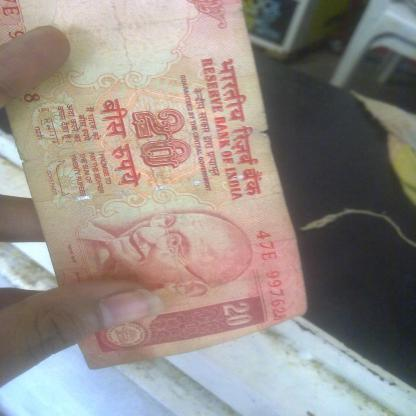Old20Front: (0, 0, 310, 371)
